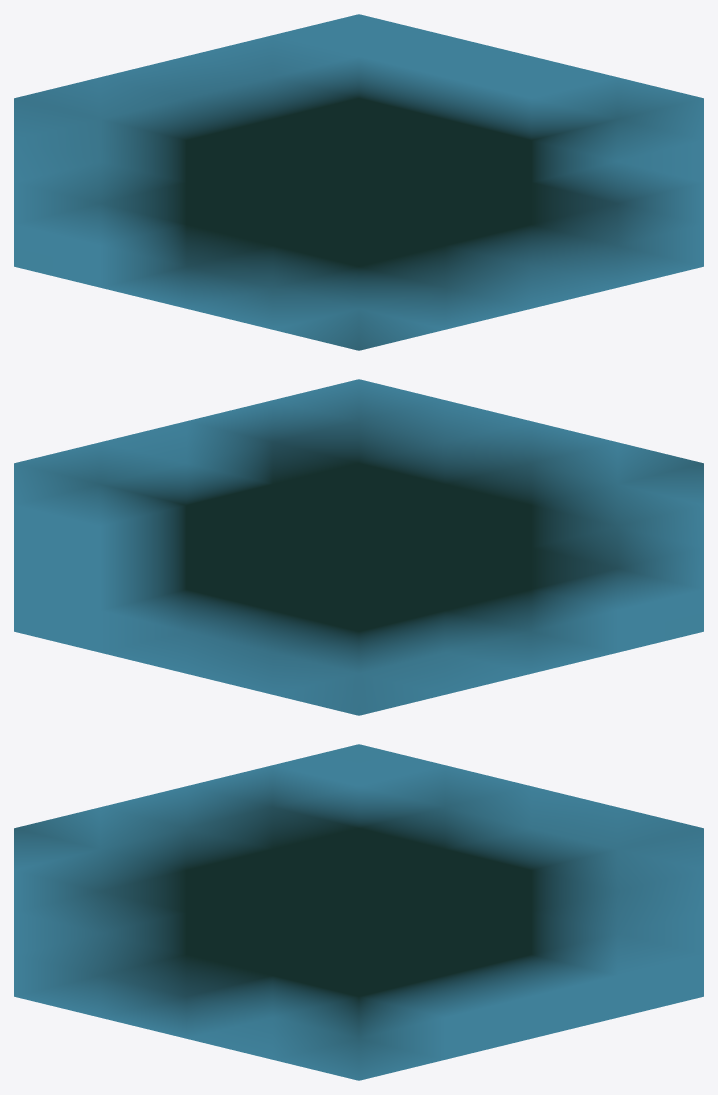
File: WATER_LEVEL_200.fbx
The picture shows the model from 3 angles, top to bottom: view 1: azimuth 30°, elevation 25°; view 2: azimuth 150°, elevation 25°; view 3: azimuth 270°, elevation 25°; orthographic projection.
Visible parts, largest first — view 1: Circle; view 2: Circle; view 3: Circle.
Boxes of the visible parts, <box> form: Circle: <box>14,14,703,350</box>; Circle: <box>14,379,703,715</box>; Circle: <box>14,744,703,1080</box>.
Bounding box in the file's own units: 19078 × 0.00269 × 16522.
